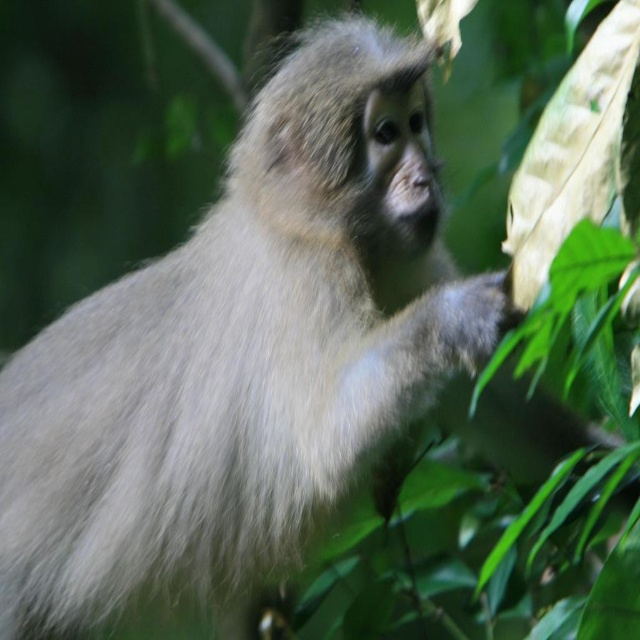Monkey: (0, 4, 520, 639)
